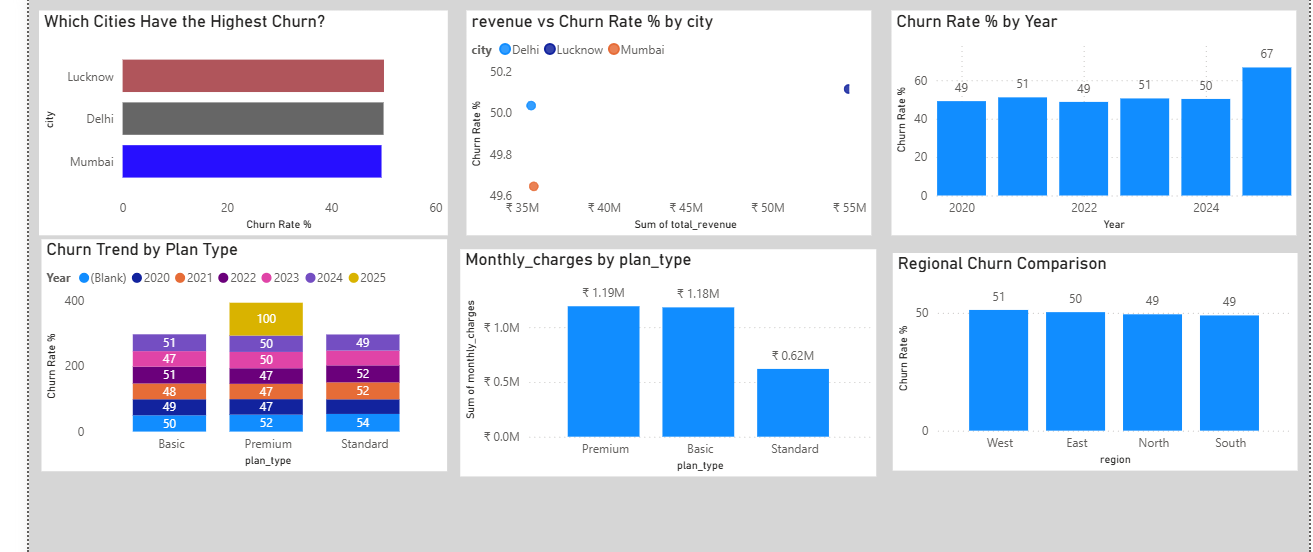

The page's visual inventory and layout, read from the dashboard file:
{"tool":"powerbi","page":{"name":"Page 2","canvas":[1280,720],"ordinal":1},"visuals":[{"type":"barChart","title":"Which Cities Have the Highest Churn?","fields":{"Category":["silver telecom_clean_data.city"],"Y":["silver telecom_clean_data.Churn Rate %"]},"box":[10,12.5,408.8,225],"z":0},{"type":"scatterChart","title":"revenue vs Churn Rate % by city","fields":{"Series":["silver telecom_clean_data.city"],"X":["Sum(silver telecom_clean_data.total_revenue)"],"Y":["silver telecom_clean_data.Churn Rate %"]},"box":[437.5,12.5,405,225],"z":1000},{"type":"clusteredColumnChart","fields":{"Category":["silver telecom_clean_data.signup_date.Variation.Date Hierarchy.Year"],"Y":["silver telecom_clean_data.Churn Rate %"]},"box":[863,13,405,225],"z":2000},{"type":"columnChart","title":"Monthly_charges by plan_type","fields":{"Category":["silver telecom_clean_data.plan_type"],"Y":["Sum(silver telecom_clean_data.monthly_charges)"]},"box":[431.7,250.7,415.8,227.4],"z":3000},{"type":"clusteredColumnChart","title":"Regional Churn Comparison","fields":{"Category":["silver telecom_clean_data.region"],"Y":["silver telecom_clean_data.Churn Rate %"]},"box":[863.3,255.6,404.8,217.7],"z":4000},{"type":"columnChart","title":"Churn Trend by Plan Type","fields":{"Category":["silver telecom_clean_data.plan_type"],"Series":["silver telecom_clean_data.last_payment_date.Variation.Date Hierarchy.Year"],"Y":["silver telecom_clean_data.Churn Rate %"]},"box":[12.2,240.9,406,232.3],"z":5000}]}

Visuals, with their boxes on the page's 1280x720 design canvas (x1, y1, x2, y2). These are canvas units, not pixel positions in the 1313x552 screenshot, which may show the page scaled, cropped or inside an application window:
"Which Cities Have the Highest Churn?" barChart: [10, 12, 419, 238]
"revenue vs Churn Rate % by city" scatterChart: [438, 12, 842, 238]
clusteredColumnChart - silver telecom_clean_data.signup_date.Variation.Date Hierarchy.Year x silver telecom_clean_data.Churn Rate %: [863, 13, 1268, 238]
"Monthly_charges by plan_type" columnChart: [432, 251, 848, 478]
"Regional Churn Comparison" clusteredColumnChart: [863, 256, 1268, 473]
"Churn Trend by Plan Type" columnChart: [12, 241, 418, 473]
